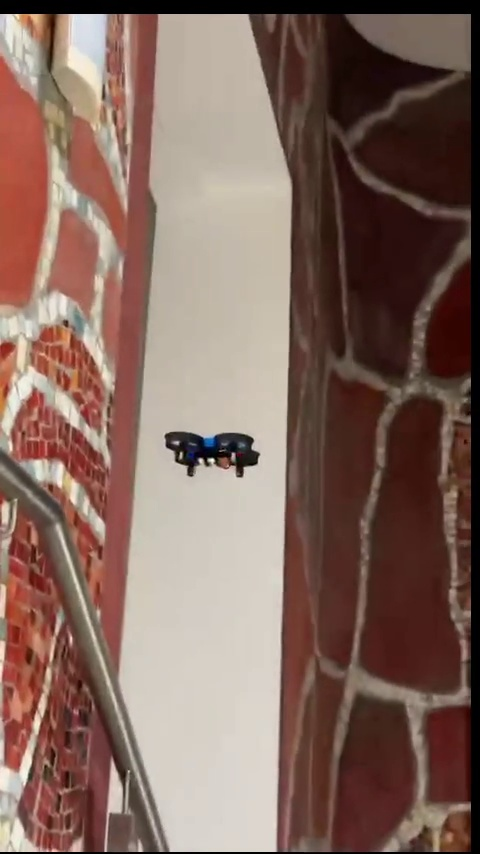drone: (164, 433, 260, 479)
